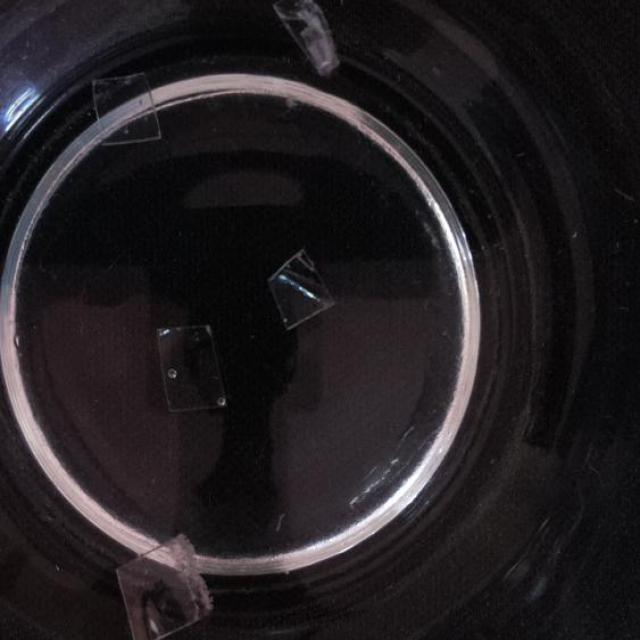fiber: (118, 538, 210, 640), (263, 248, 337, 326), (268, 0, 341, 79), (157, 327, 225, 410), (94, 74, 163, 146), (282, 93, 300, 115)
